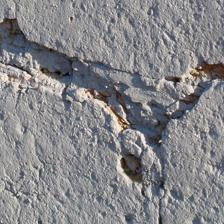Crack: (2, 9, 222, 134)
